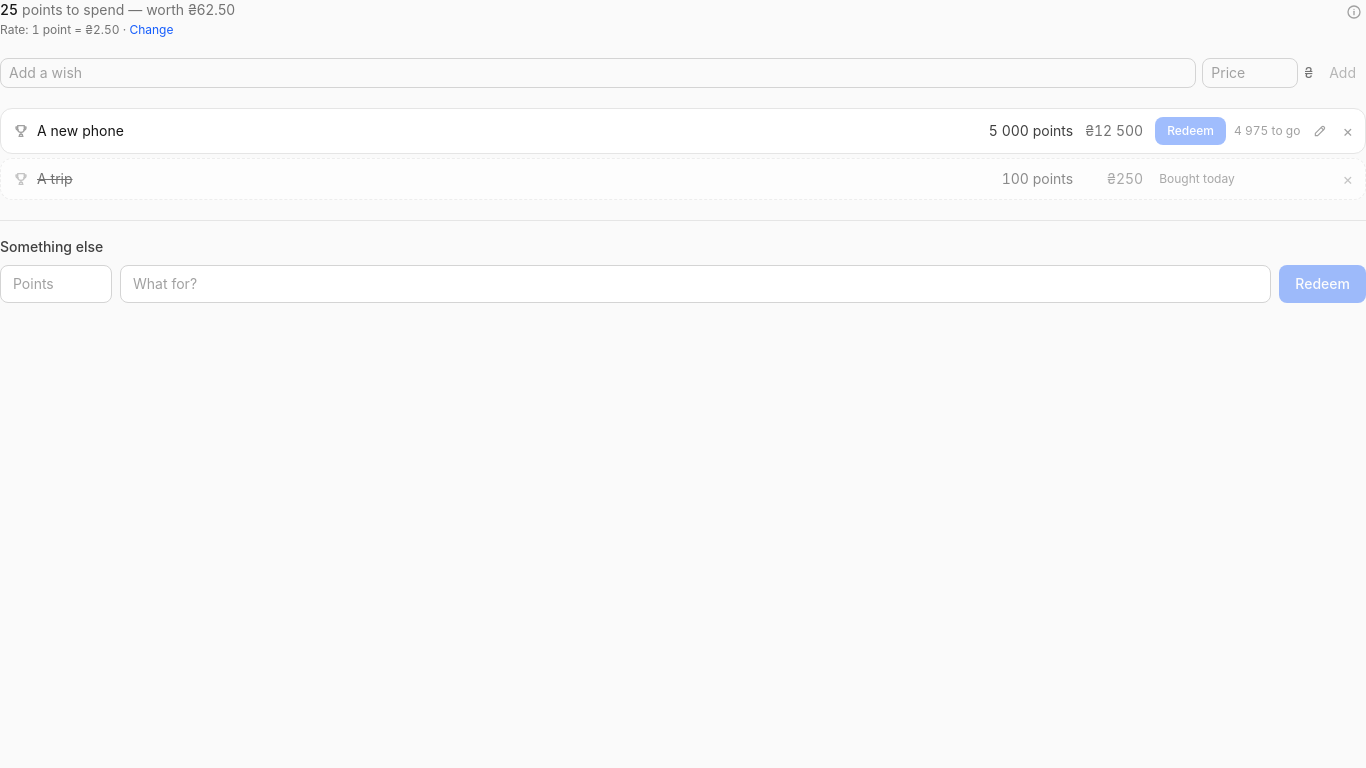
Scenario: keeping a list (RWD-33, RWD-34) › asks about a wish as a wish (RWD-34, RWD-40)
Click the button named "Delete the wish \"A trip\"" at coordinates (1348, 179), box [1336,167,1359,191]
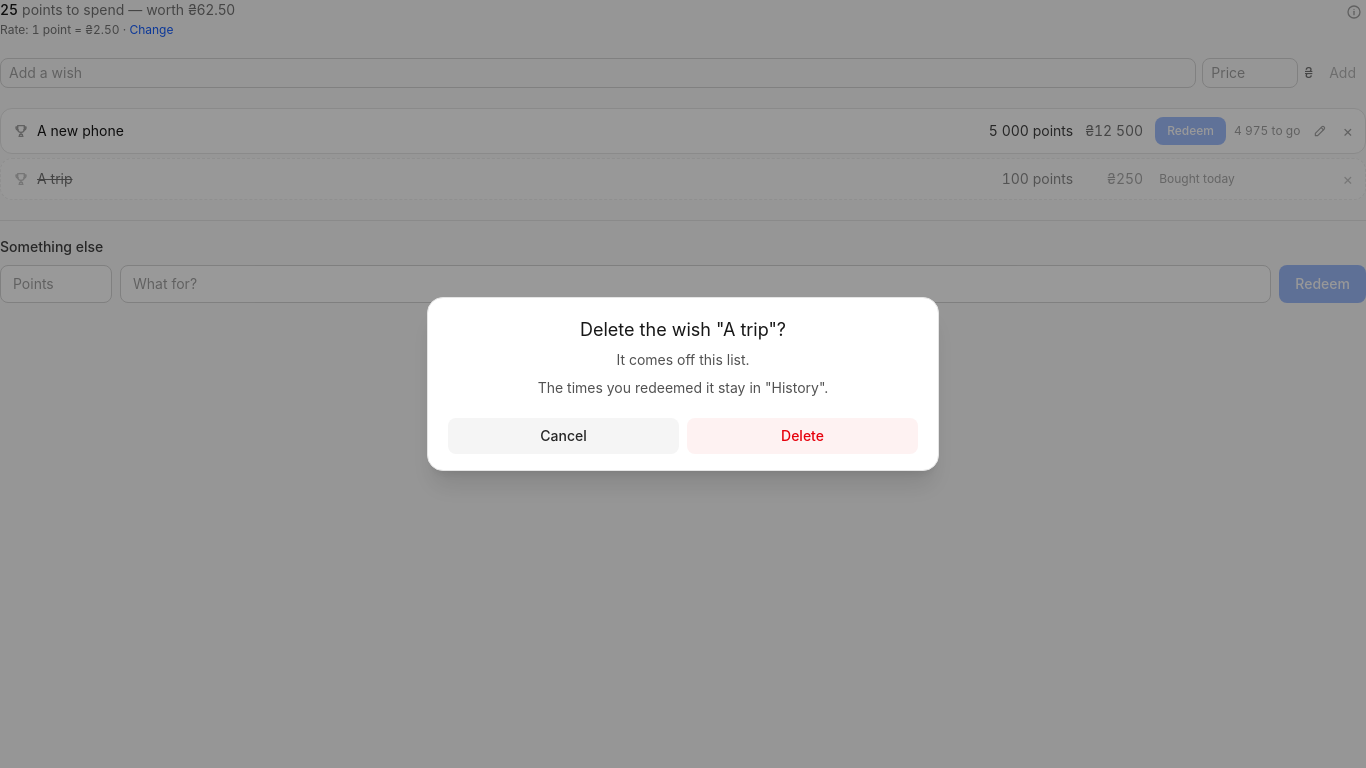
Expected: the dialog "Delete the wish \"A trip\"?" is shown, [427,297,939,471]
